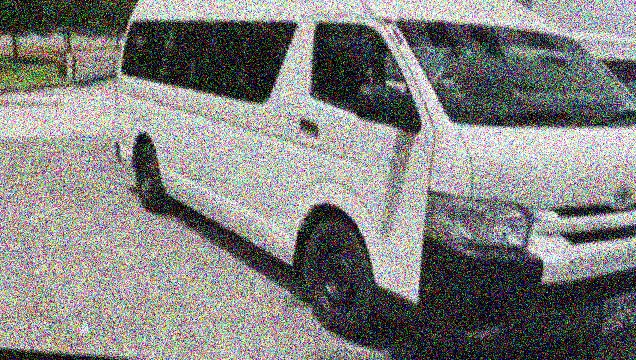van: (80, 0, 636, 360)
